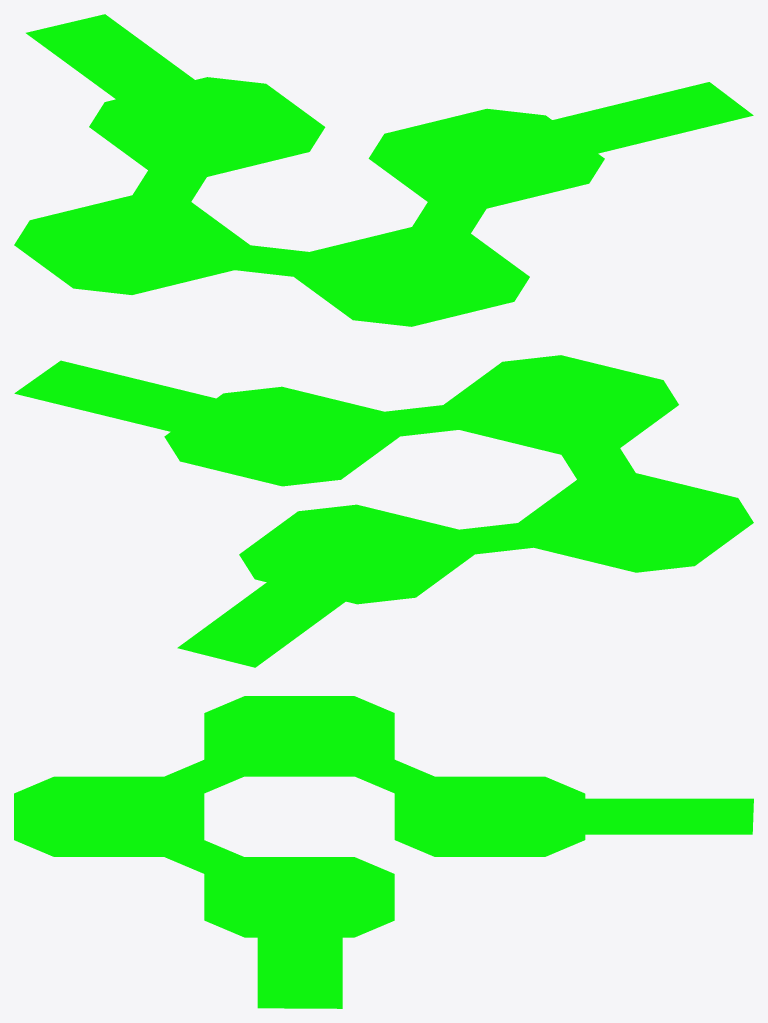
The model's file is s02a_lc2-floor.glb.
3 views of the same model, one above another, from view 1: azimuth 30°, elevation 25°; view 2: azimuth 150°, elevation 25°; view 3: azimuth 270°, elevation 25° (orthographic). The views are drawn at different scales.
Parts seen in each view (by area): view 1: collision_floor-colonly; view 2: collision_floor-colonly; view 3: collision_floor-colonly.
Part boxes in pixels (box(x1,y1,x2,y2)): collision_floor-colonly: box(14, 14, 753, 326); collision_floor-colonly: box(14, 355, 753, 667); collision_floor-colonly: box(14, 696, 753, 1008).
Bounding box in the file's own units: 52.21 × 0 × 52.21.
